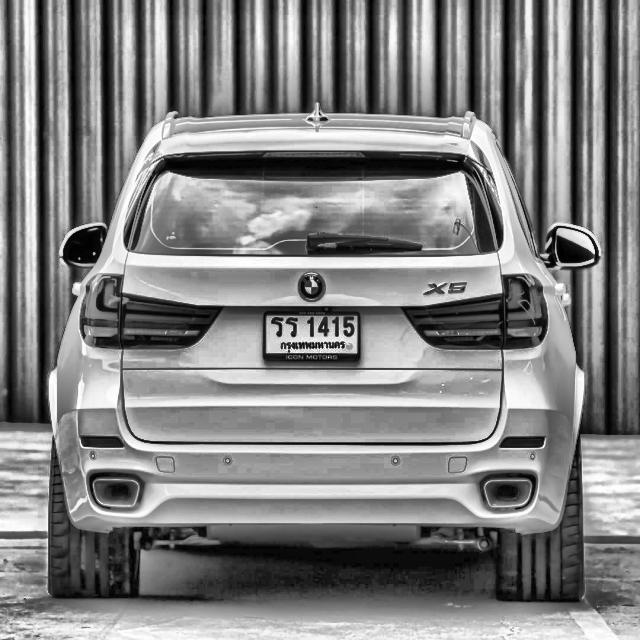license-plate: (264, 309, 362, 365)
